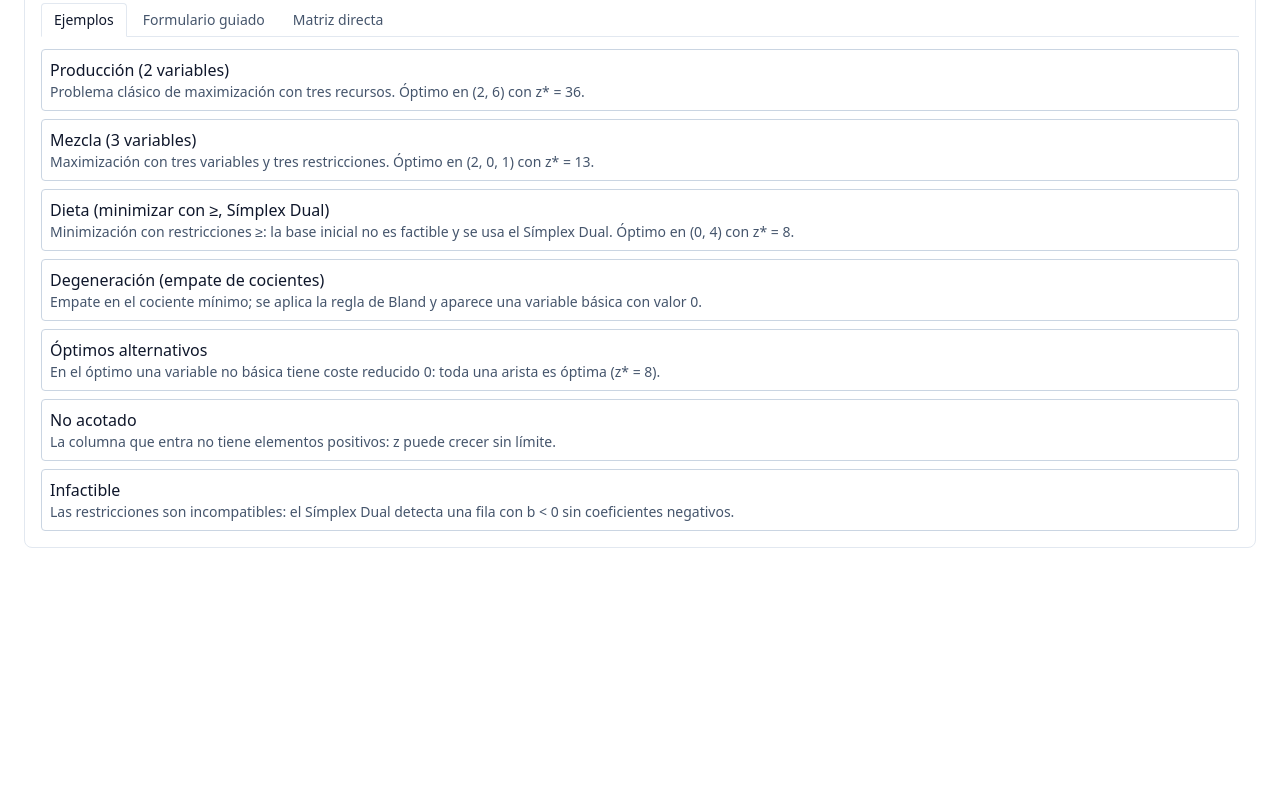
Test: App › carga un ejemplo y permite recorrer las iteraciones con el stepper y el teclado
The width and height of the screenshot is (1280, 786).
Click the button "Producción (2 variables)" at (139, 70), box [41,49,1239,111]
(page scrolled)
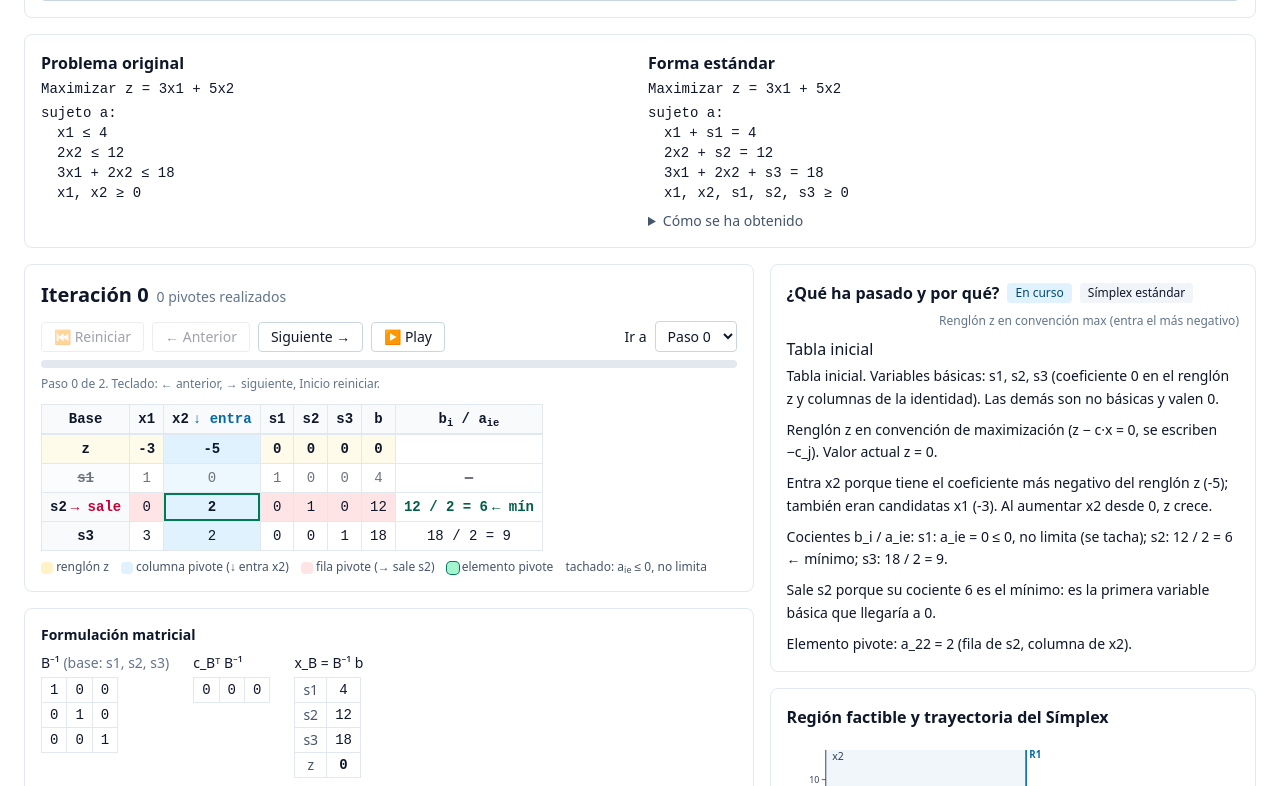
Expected: the heading "Iteración 0" is shown, [41,281,149,309]
Expected: the table named "Tabla Símplex, iteración 0" is shown, [41,404,543,551]
Click the button "Siguiente →" at (311, 336), box [258,322,363,352]
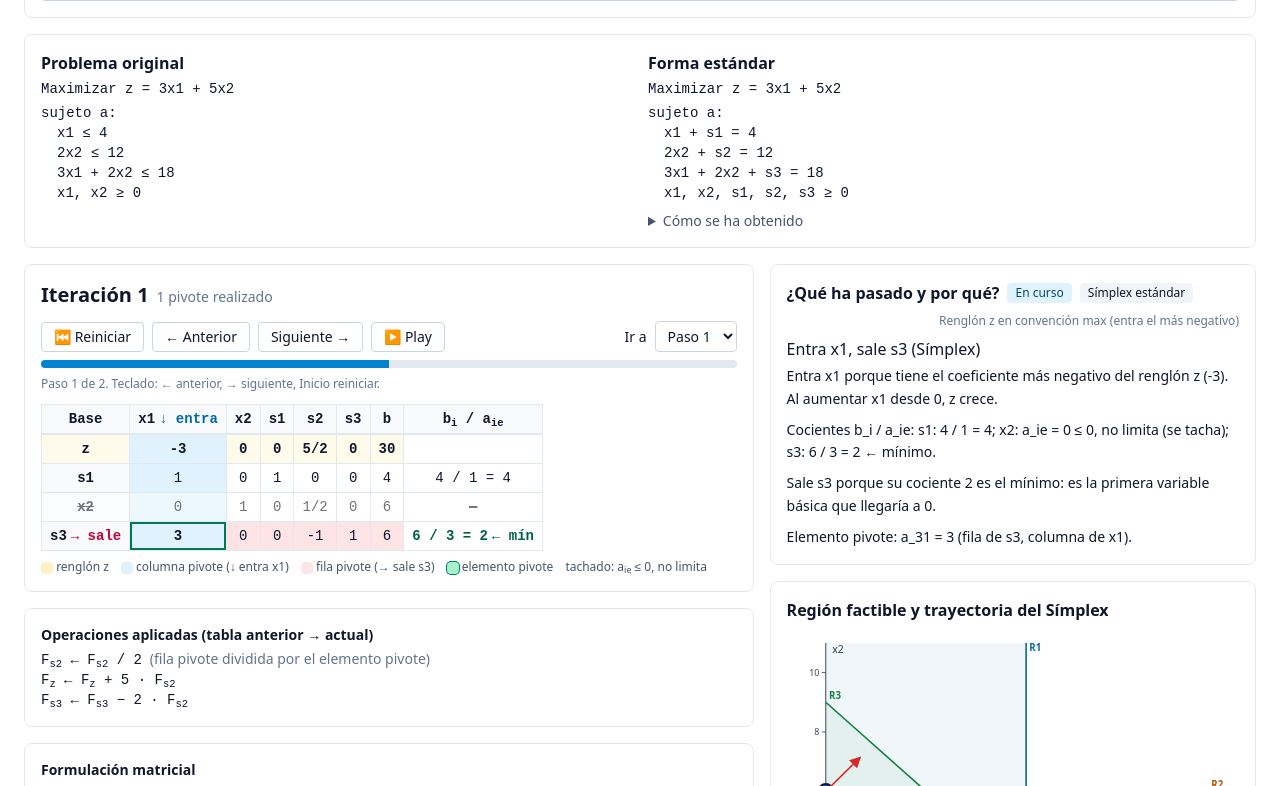
Expected: the heading "Iteración 1" is shown, [41,281,149,309]
Press ArrowRight
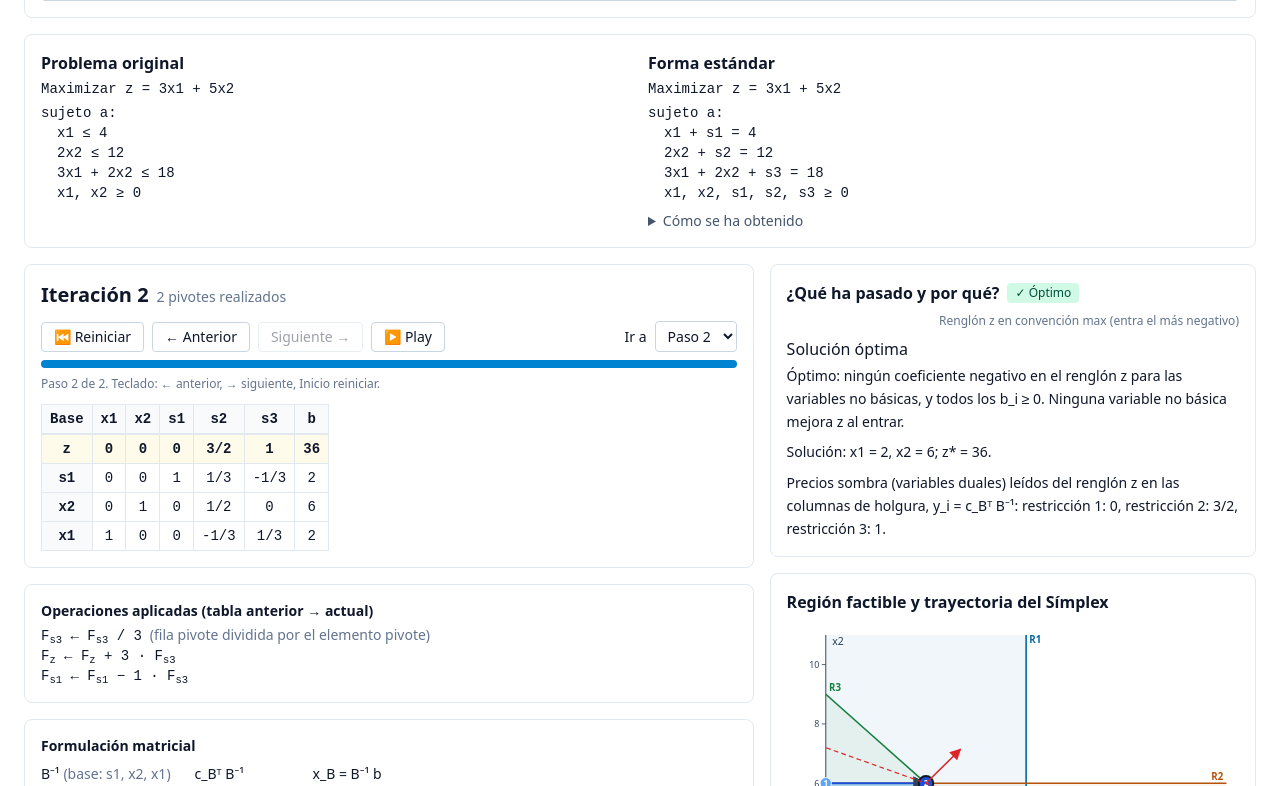
Expected: the heading "Iteración 2" is shown, [41,281,149,309]
Press ArrowLeft
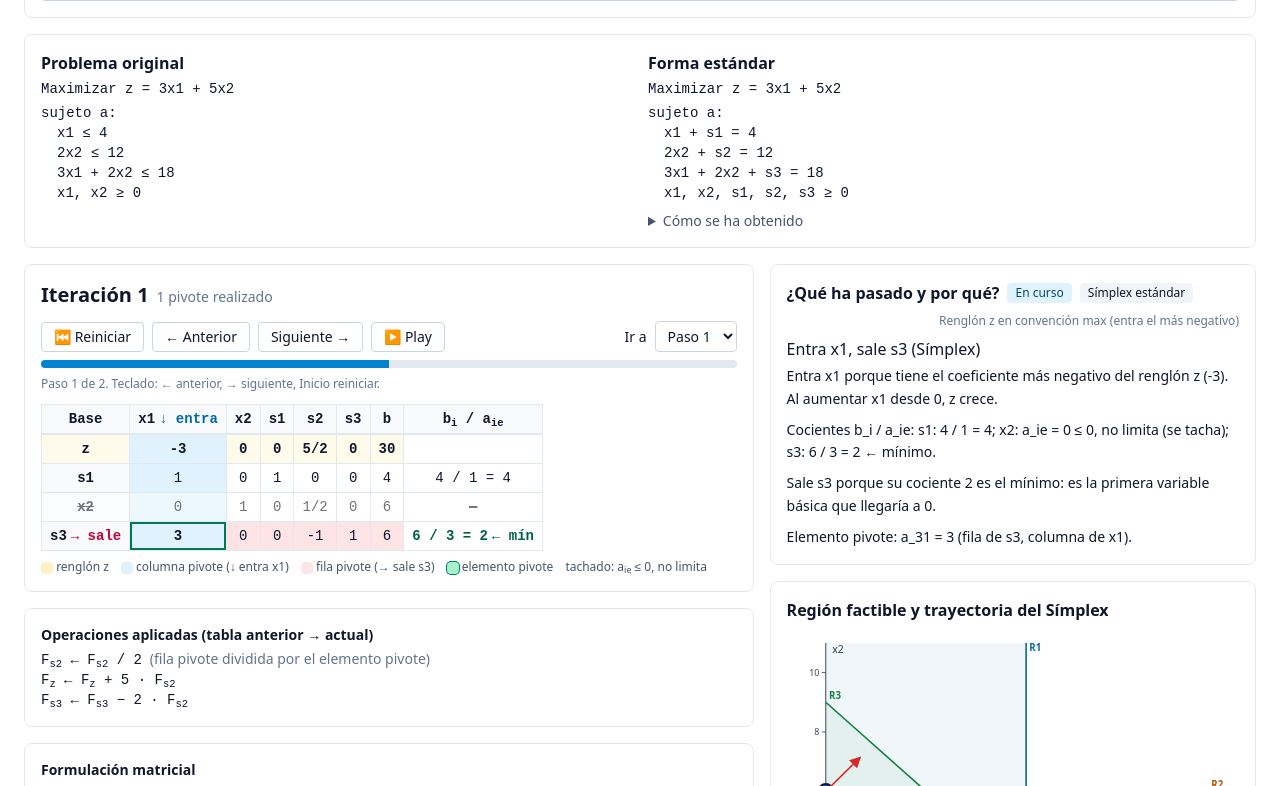
Expected: the heading "Iteración 1" is shown, [41,281,149,309]
Click the button "⏮ Reiniciar" at (93, 336), box [41,322,144,352]
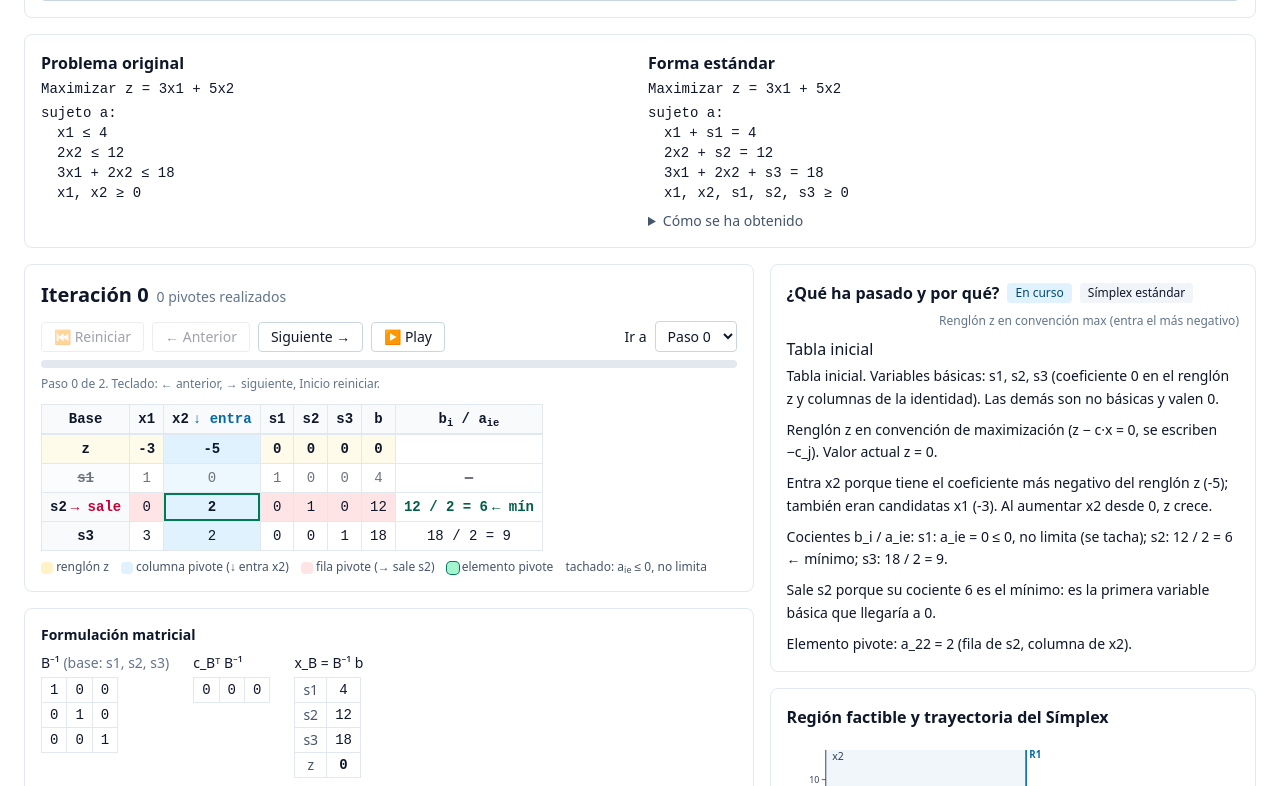
Expected: the heading "Iteración 0" is shown, [41,281,149,309]
Expected: the button "← Anterior" is disabled, [152,322,250,352]
Select "Paso 2" in the dropdown labelled "Ir a" at (696, 336), box [655,321,737,352]
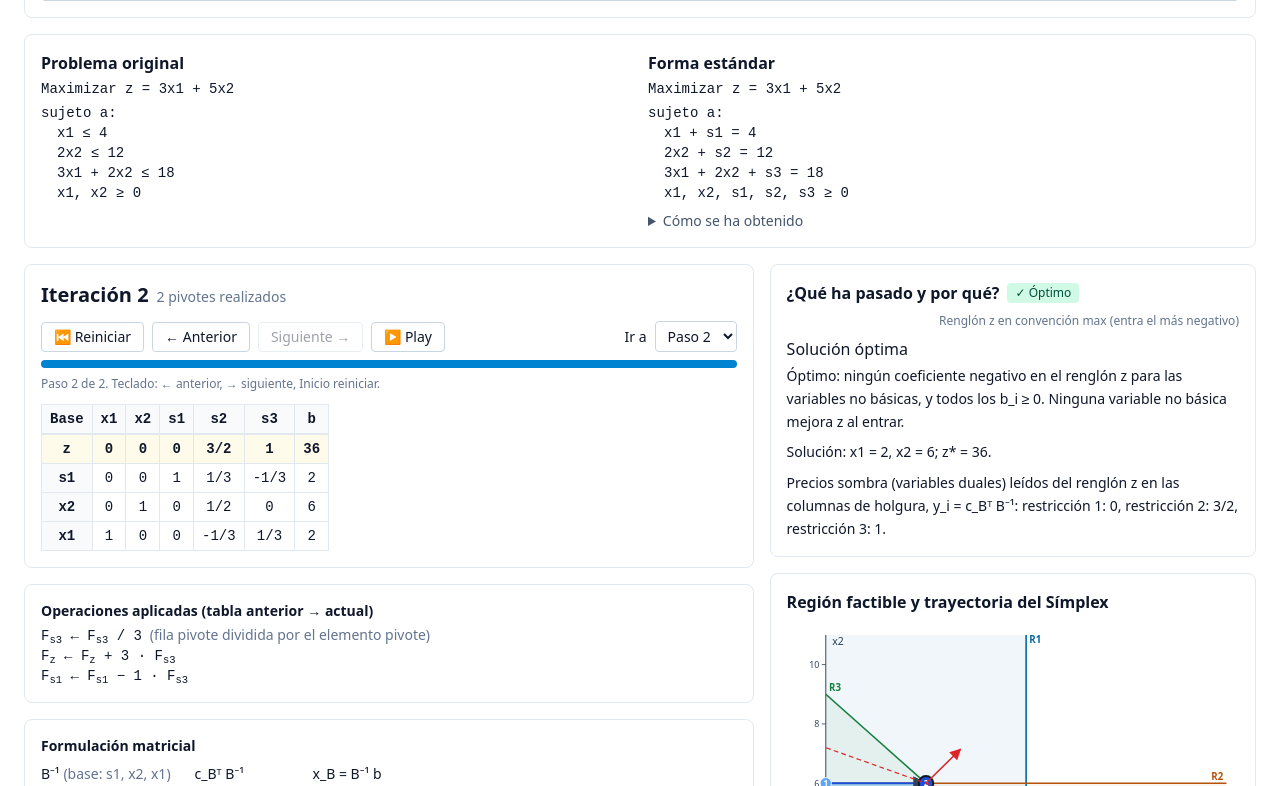
Expected: the heading "Iteración 2" is shown, [41,281,149,309]
Expected: the text "✓ Óptimo" is shown, [1008,283,1079,303]
Expected: the button "Siguiente →" is disabled, [258,322,363,352]
